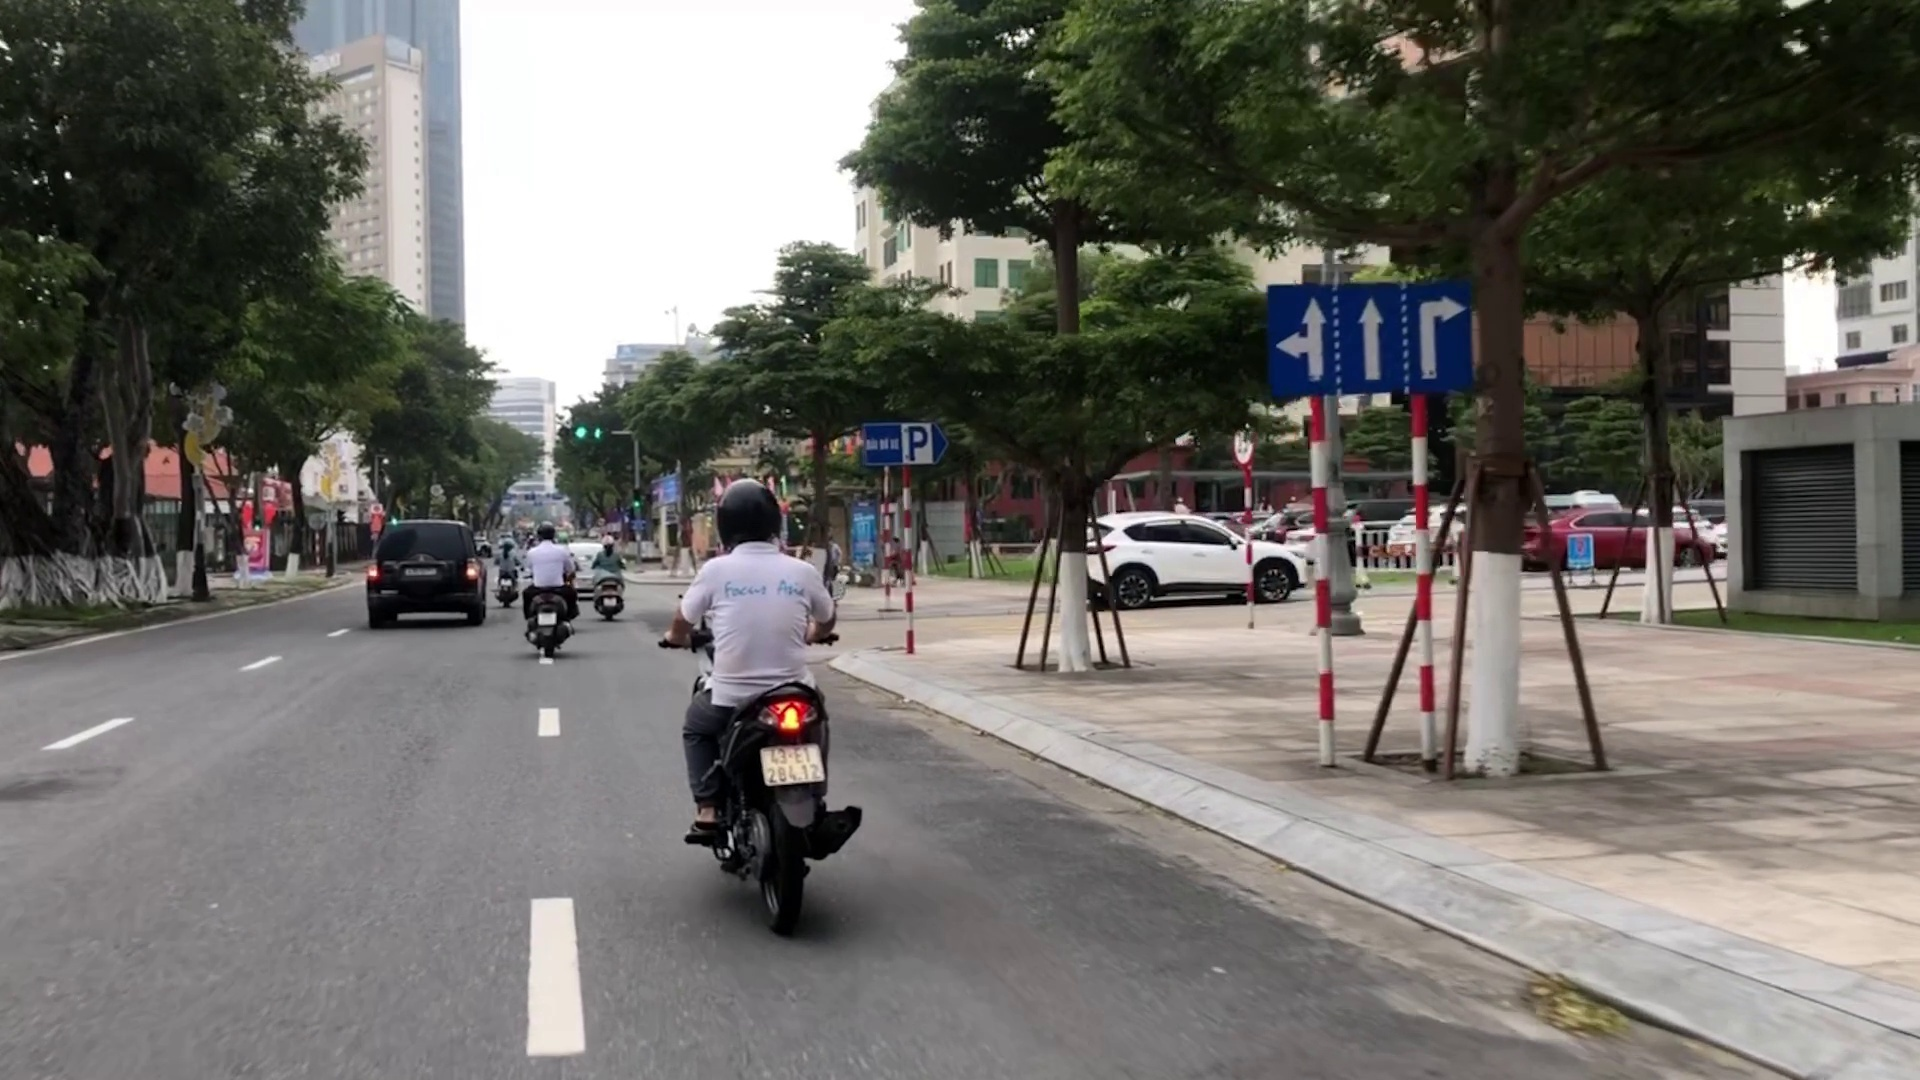Bien khac: (1270, 281, 1477, 396), (862, 422, 945, 465)
